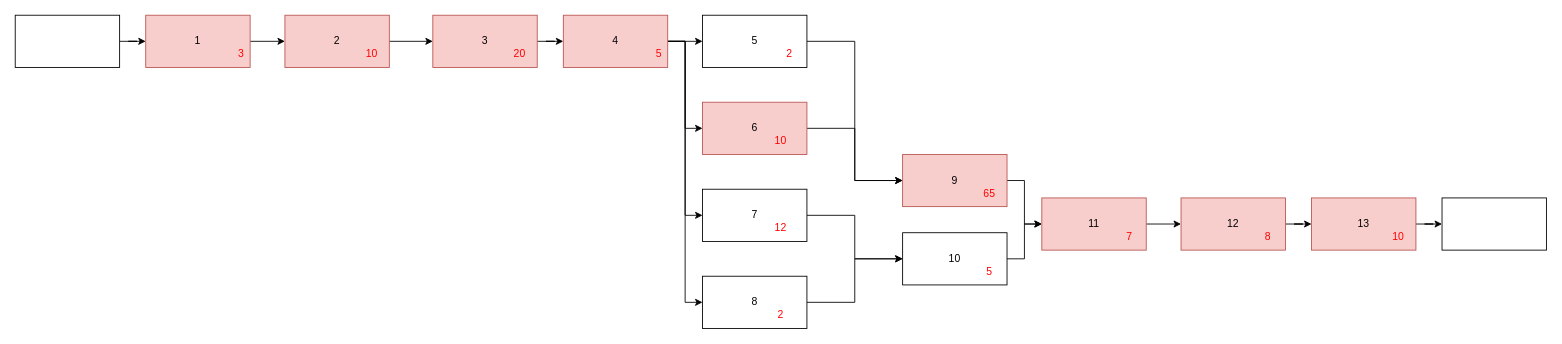
This 1562x344 diagram has some shape labels left out. Here are the shapes that lost their labels. From the top down, the centre of each, then its label:
the point at 67,40: Inicio
the point at 1493,223: Fin
